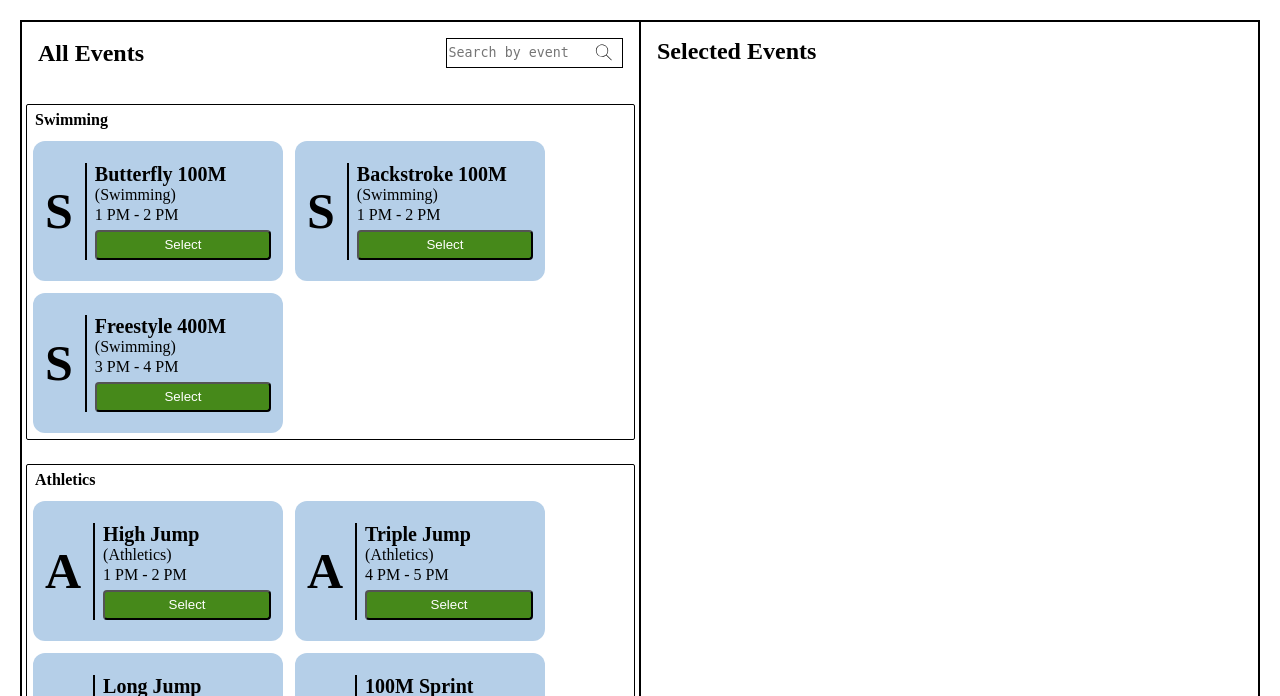
Events › checks if able to search events
Type "100M Sprint" into the text box with test id "search-box".
click(518, 53); type("100M Sprint")  # box [447, 39, 588, 67]
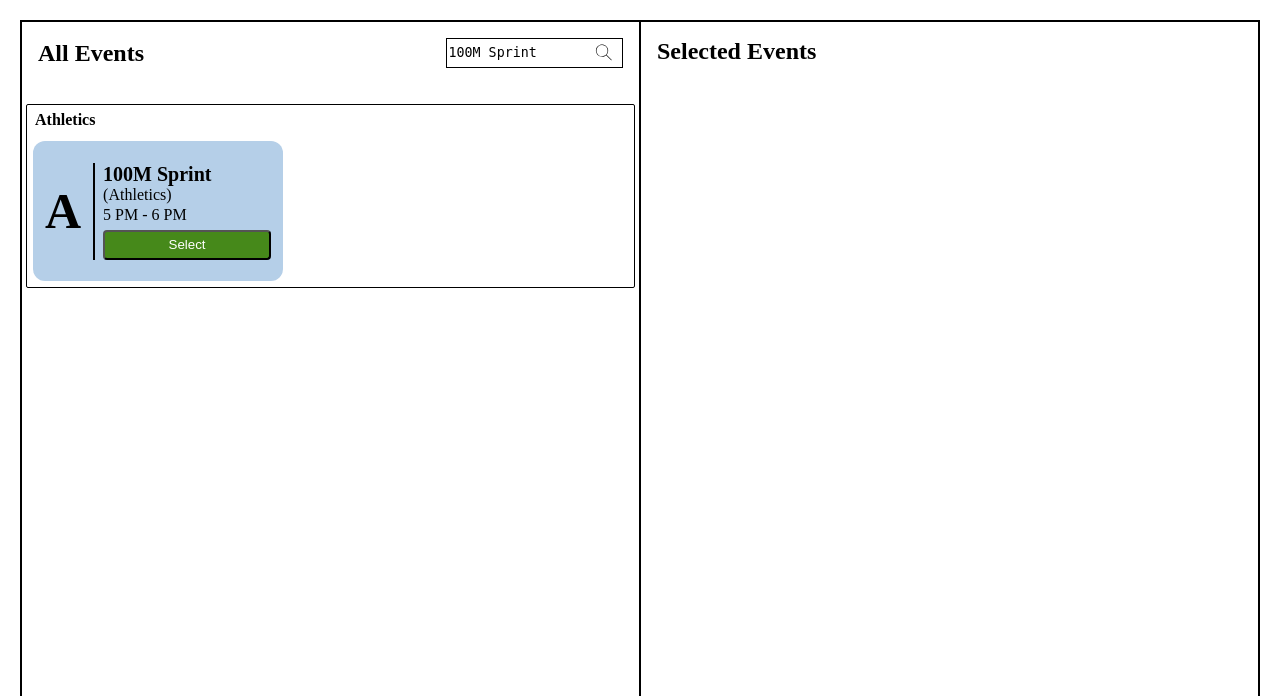
expect the text with test id "event-icon" reads "A": met, box [45, 183, 81, 239]
expect the number of elements with test id "events-group" is 1: met, box [26, 104, 635, 288]
expect the number of elements with test id "event-card" is 1: met, box [33, 141, 283, 281]
